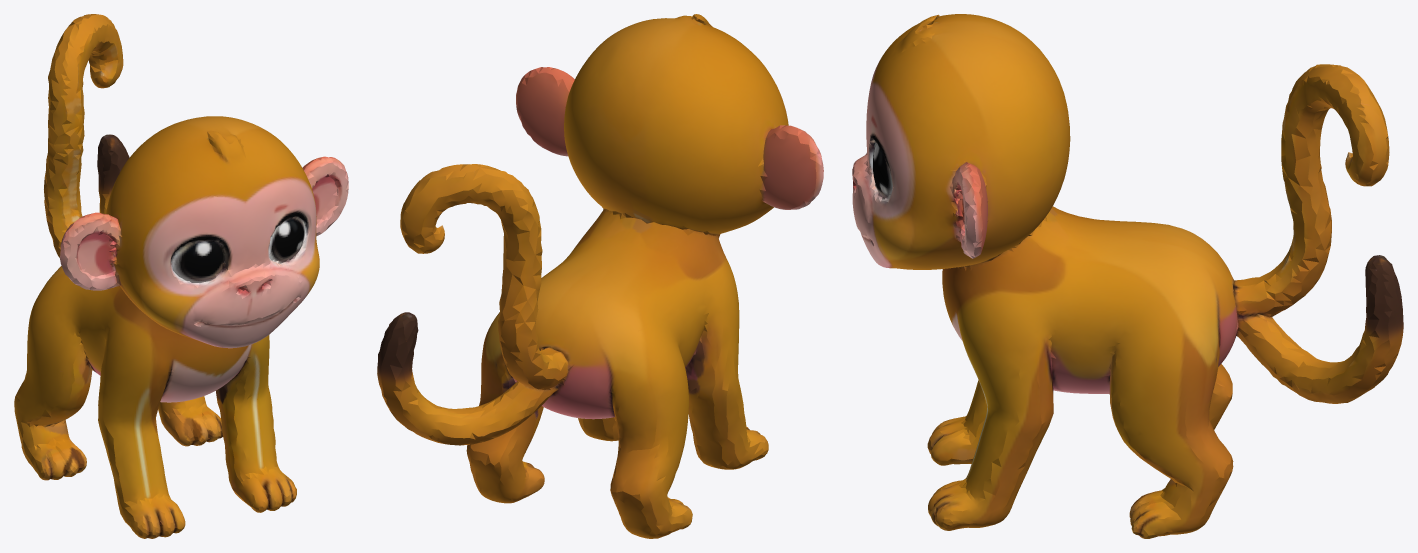
The model's file is monkey.glb.
3 renders of one model, left to right at view 1: azimuth 30°, elevation 25°; view 2: azimuth 150°, elevation 25°; view 3: azimuth 270°, elevation 25°, orthographic. The views are drawn at different scales.
Visible parts, largest first — view 1: monkey; view 2: monkey; view 3: monkey.
Boxes of the visible parts, x1,y1,x2,y2 form: monkey: (14, 14, 348, 538); monkey: (377, 14, 823, 538); monkey: (852, 14, 1403, 538).
Bounding box in the file's own units: 1.36 × 1.78 × 1.9.
Materials: 1 (1 with a texture image).
